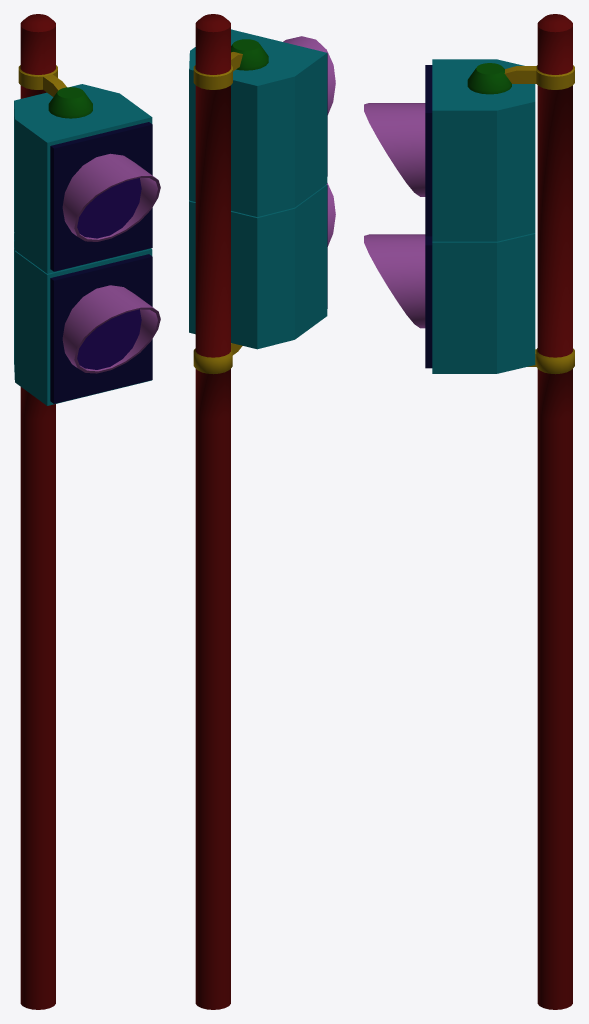
Rendered from Pedestrian Traffic Light (lLowPoly-UVW).FBX.
3 views of the same model, side by side, from view 1: azimuth 30°, elevation 25°; view 2: azimuth 150°, elevation 25°; view 3: azimuth 270°, elevation 25° (orthographic).
Visible parts, largest first — view 1: LowPoly1; view 2: LowPoly1; view 3: LowPoly1.
Part boxes in pixels (x1=…): LowPoly1: x1=14, y1=14, x2=160, y2=1009; LowPoly1: x1=189, y1=14, x2=335, y2=1009; LowPoly1: x1=364, y1=14, x2=574, y2=1009.
Bounding box in the file's own units: 0.3351 × 3 × 0.5831.
